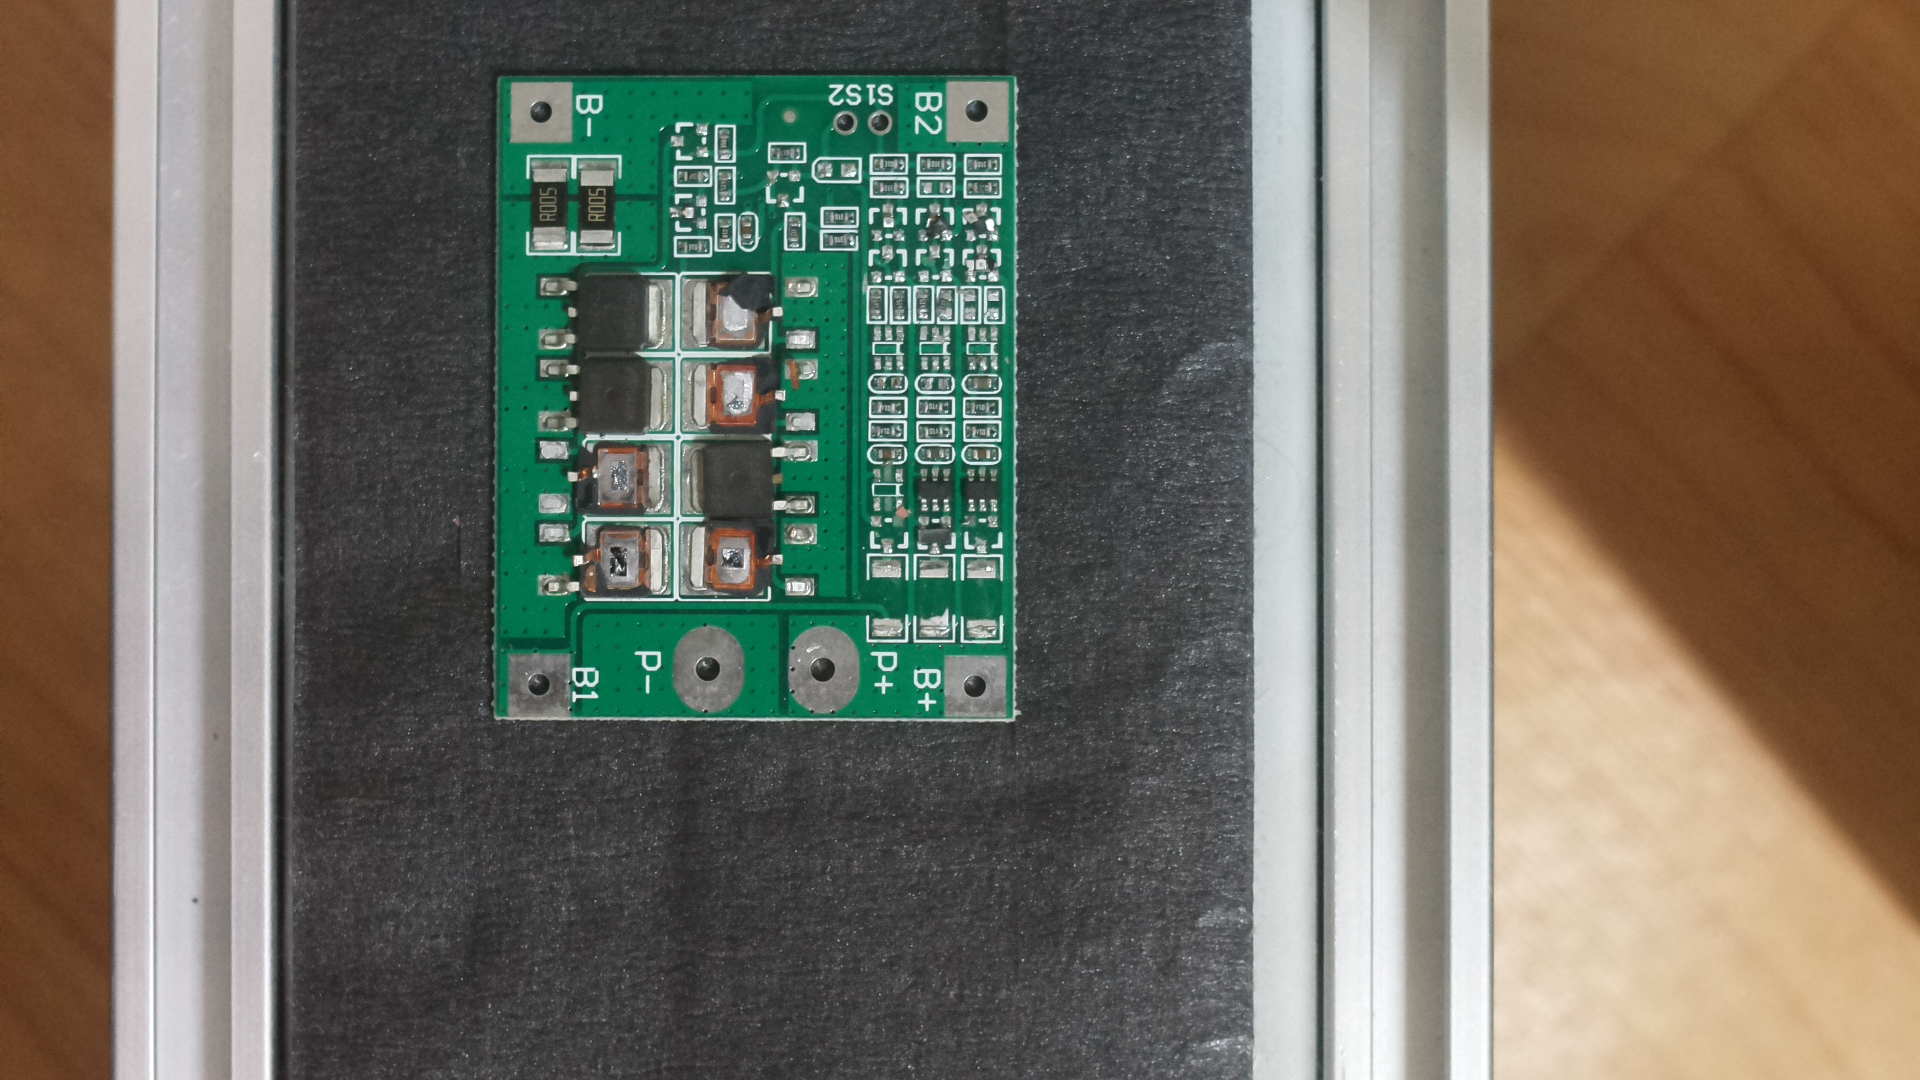C_Missing_part: (481, 51, 1040, 746)
